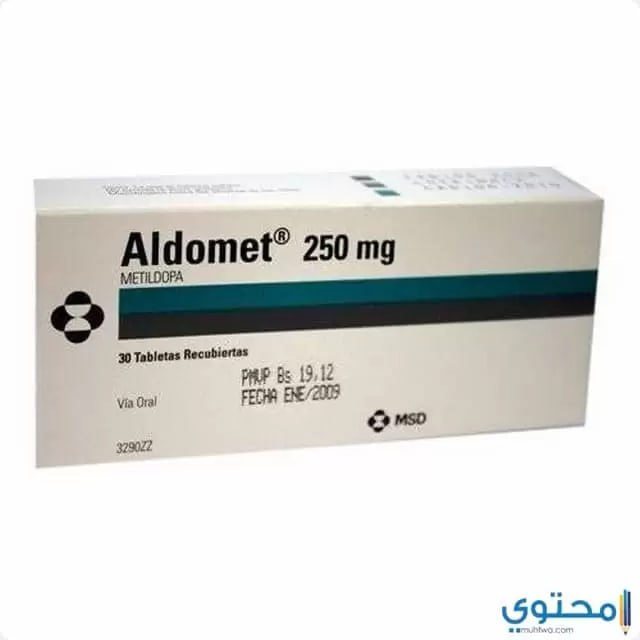Medicine: (23, 160, 603, 470)
